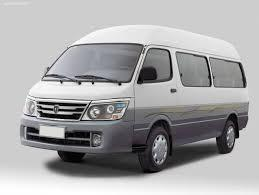van: (17, 21, 255, 166)
